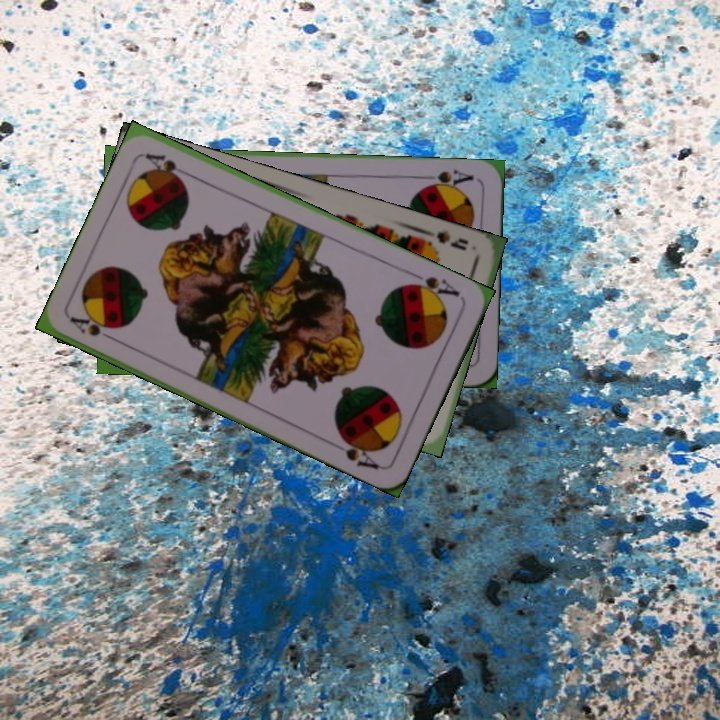S9: (417, 225, 471, 253)
SA: (404, 268, 463, 304), (66, 312, 122, 346), (418, 165, 476, 192)
